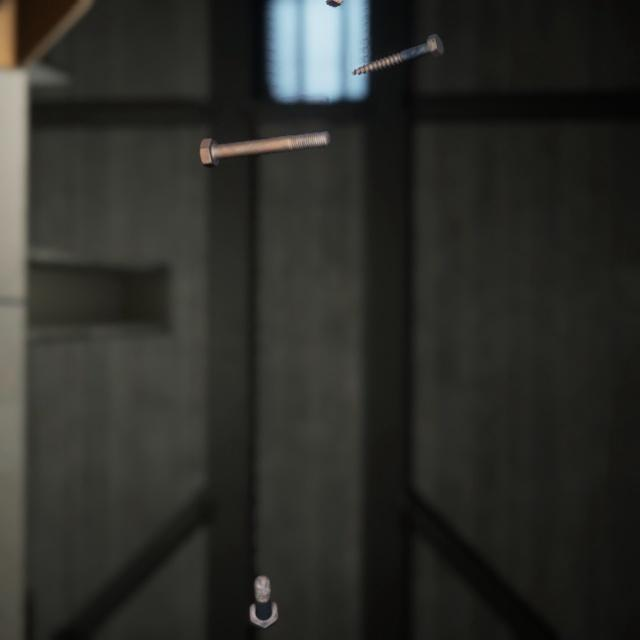bolt: (195, 113, 335, 158), (346, 20, 448, 71), (245, 546, 282, 611)
